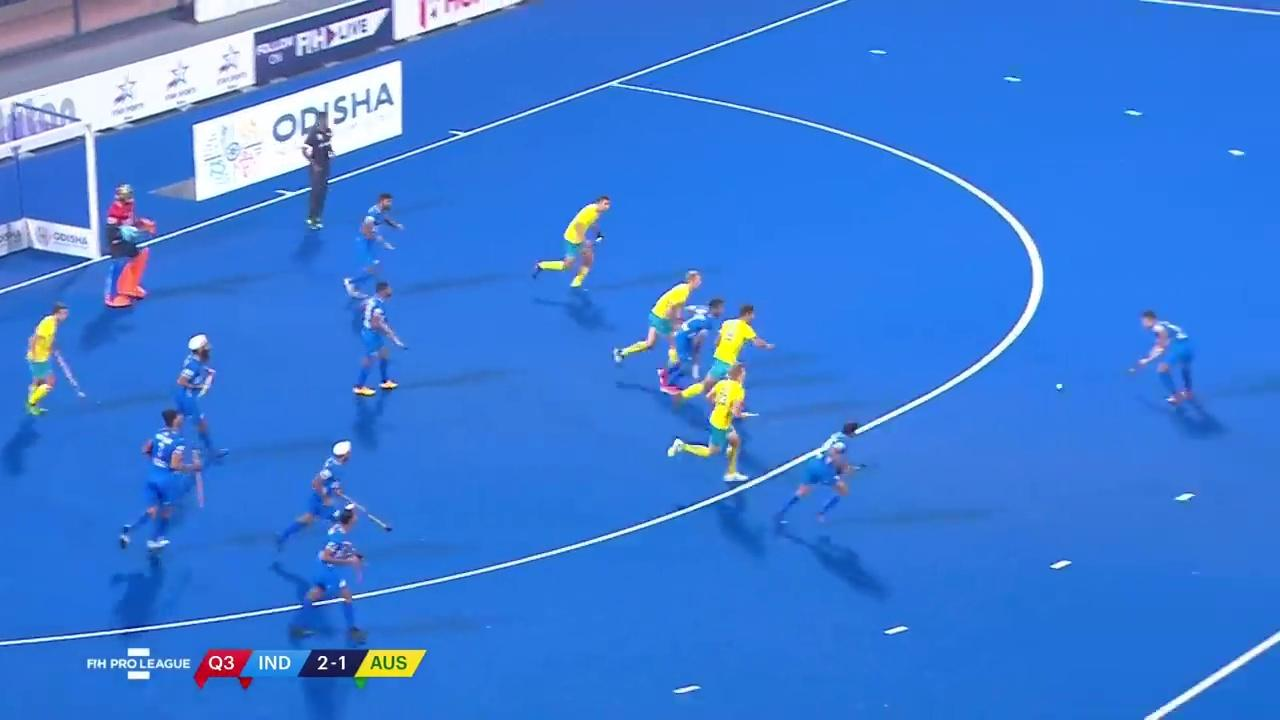ball: (1056, 378, 1066, 395)
